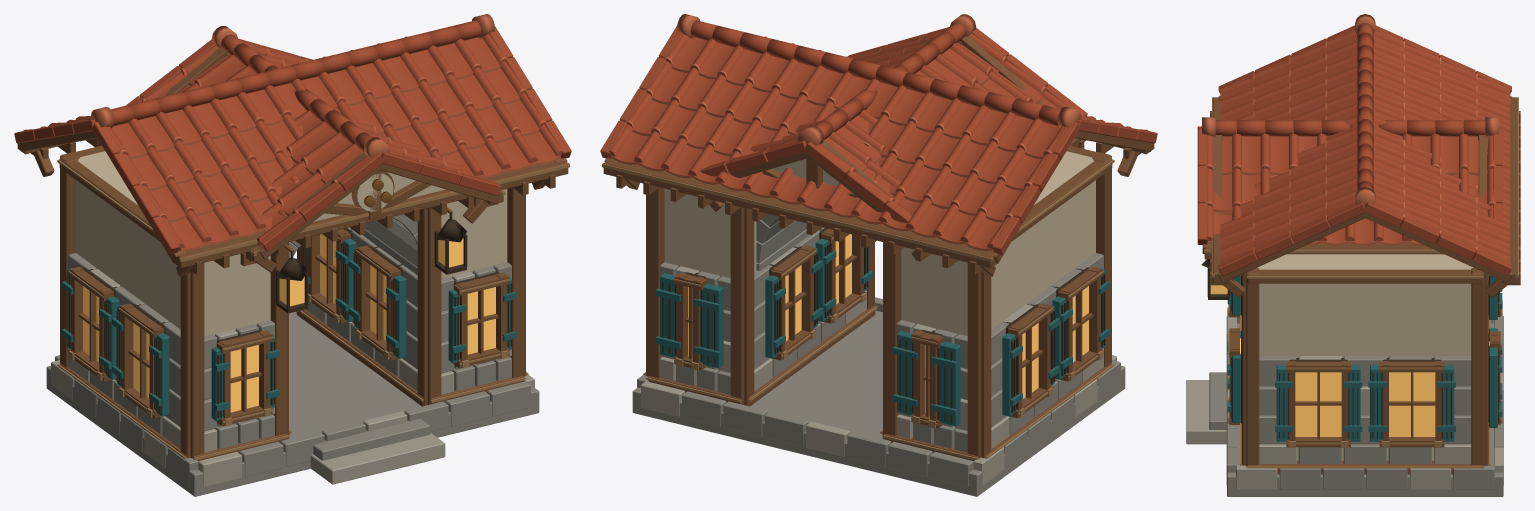
3 views of the same model, side by side, from view 1: azimuth 30°, elevation 25°; view 2: azimuth 150°, elevation 25°; view 3: azimuth 270°, elevation 25° (orthographic). The views are drawn at different scales.
Visible parts, largest first — view 1: alpine_teleport_gate_geometry; view 2: alpine_teleport_gate_geometry; view 3: alpine_teleport_gate_geometry.
Part boxes in pixels (bbox=[...]): alpine_teleport_gate_geometry: bbox=[14, 14, 571, 496]; alpine_teleport_gate_geometry: bbox=[600, 14, 1157, 496]; alpine_teleport_gate_geometry: bbox=[1186, 14, 1520, 496].
Bounding box in the file's own units: 1.04 × 0.8389 × 0.8059.
